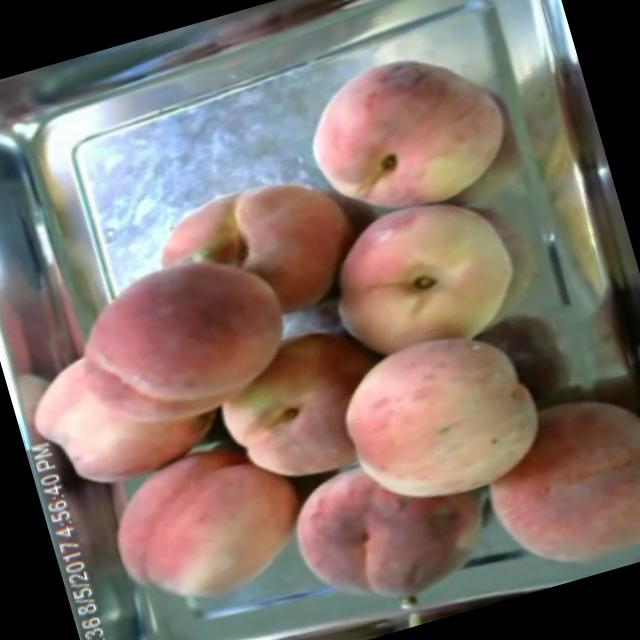Fruit: (4, 221, 328, 498), (310, 295, 575, 542), (259, 411, 534, 640), (281, 18, 533, 244), (300, 170, 544, 386), (130, 150, 381, 356), (87, 424, 326, 630), (445, 355, 640, 601), (190, 302, 413, 510)
